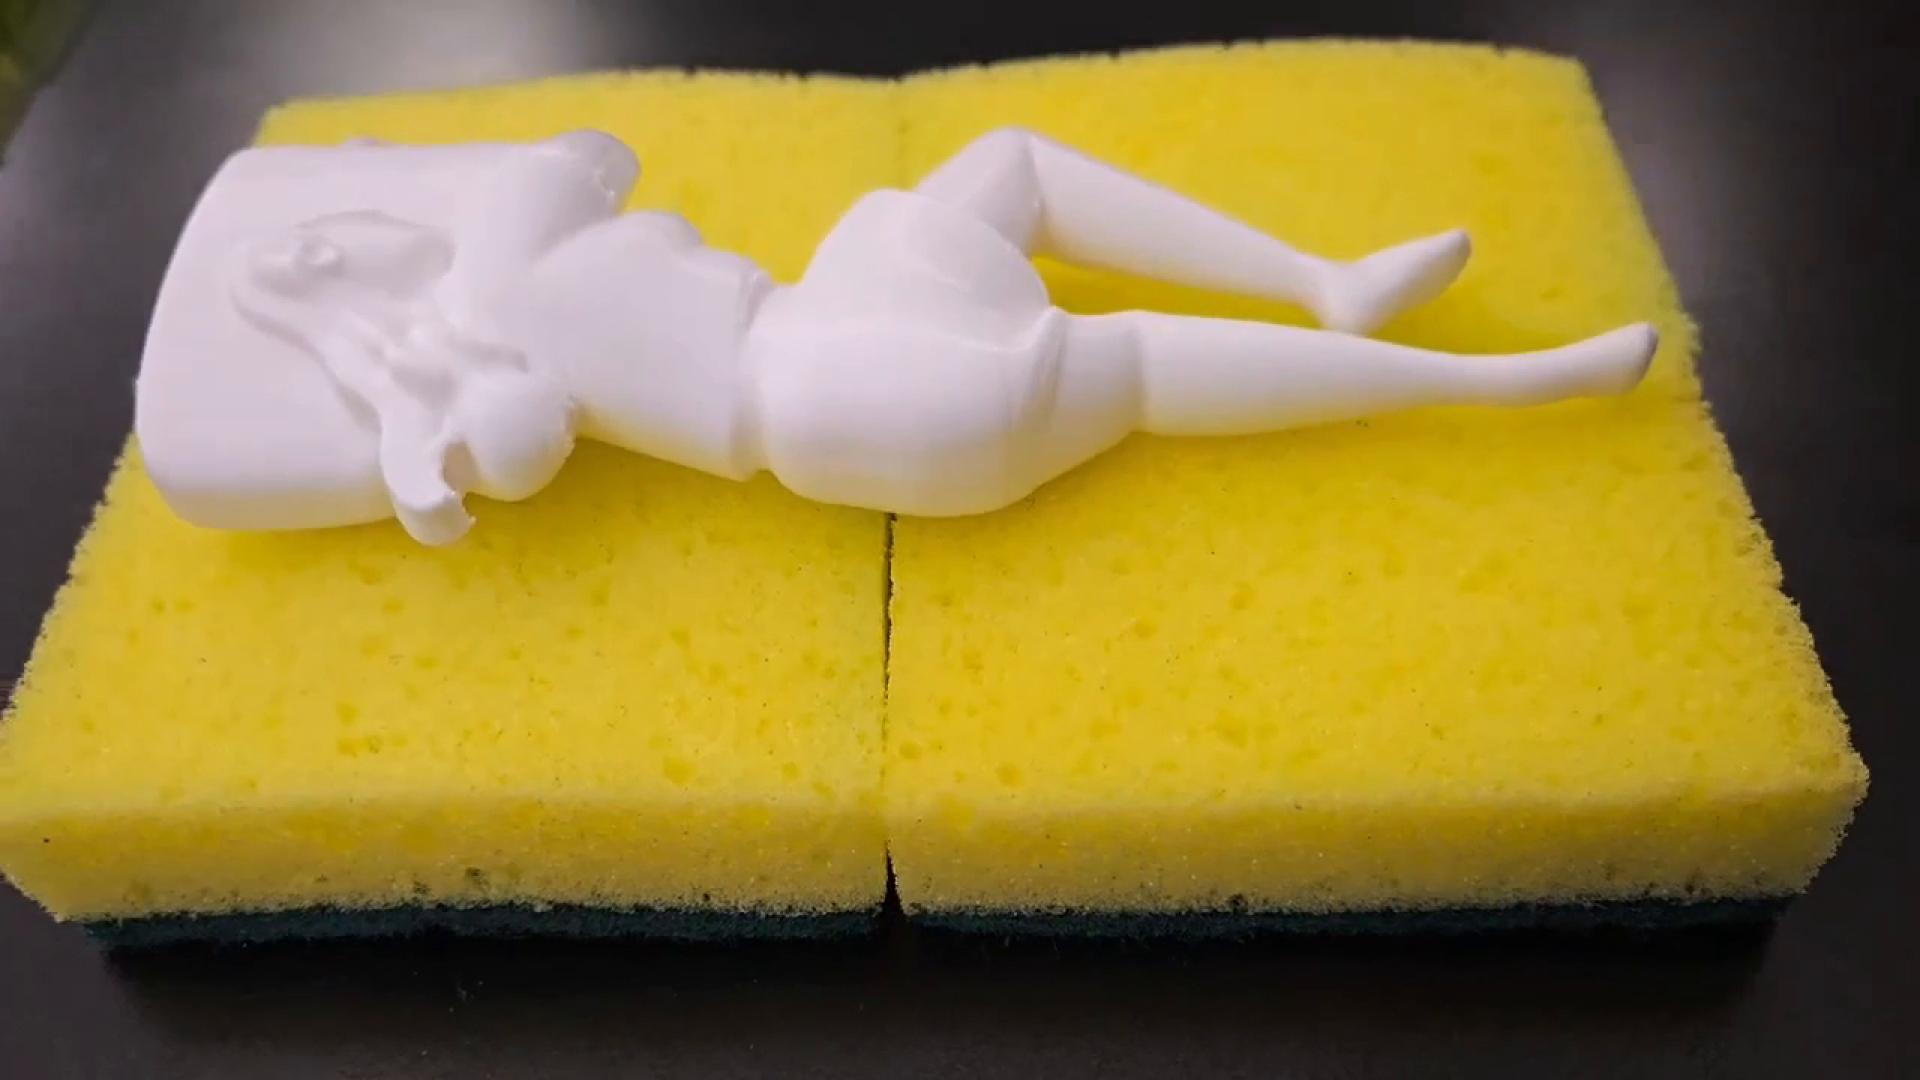Good-style: (98, 136, 1709, 576)
